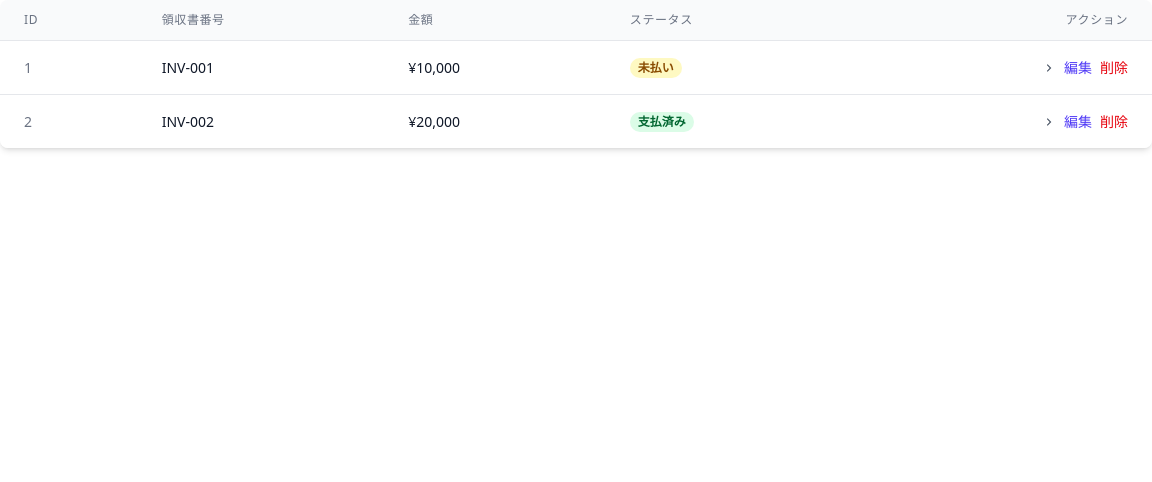
InvoiceList Component › should expand invoice details when expand button is clicked
Expected: the text "領収書詳細" is not shown
Step 1. Click the button without text in the row of "INV-001" → coordinates (1049, 68), box [1042, 60, 1056, 74]
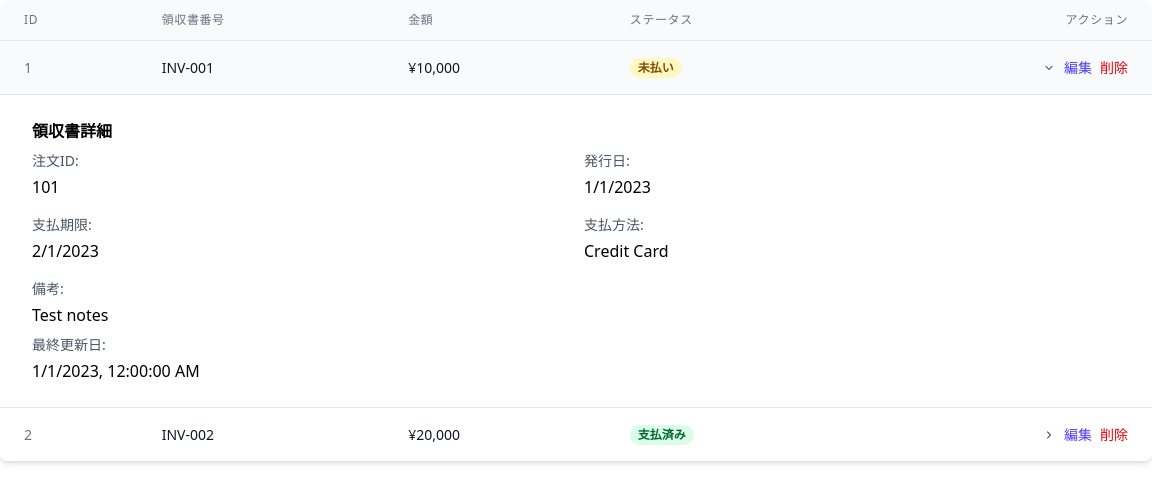
Expected: the heading "領収書詳細" is shown, [32, 120, 112, 142]
Expected: the text "注文ID:" is shown, [32, 151, 79, 170]
Expected: the text "101" is shown, [32, 176, 60, 198]
// Click again to collapse
Step 2. Click the button without text in the row of "INV-001" → coordinates (1049, 68), box [1042, 60, 1056, 74]
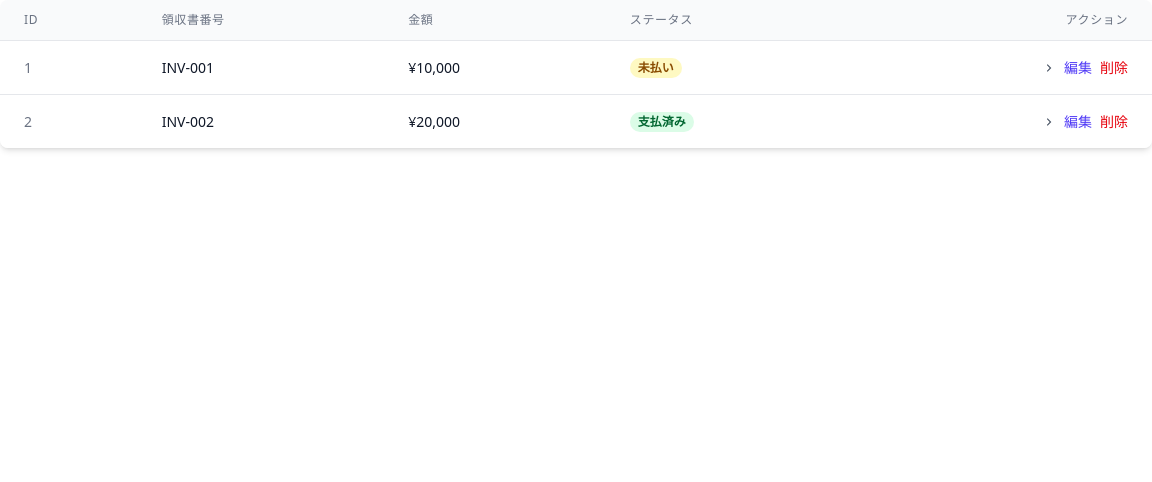
Expected: the heading "領収書詳細" is gone
